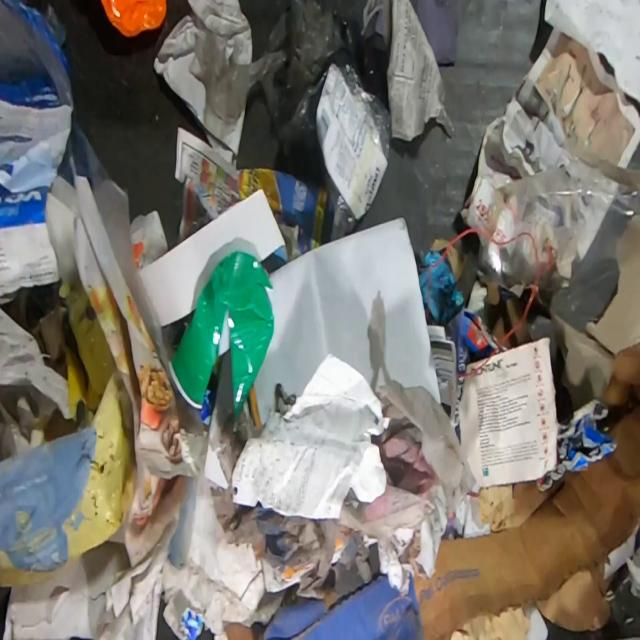cardboard: (223, 340, 640, 640), (0, 371, 137, 588), (36, 282, 117, 428), (536, 397, 619, 493)
rigid_plastic: (167, 248, 275, 432), (99, 0, 167, 36)
soft_plastic: (187, 0, 390, 241), (476, 147, 640, 333)
